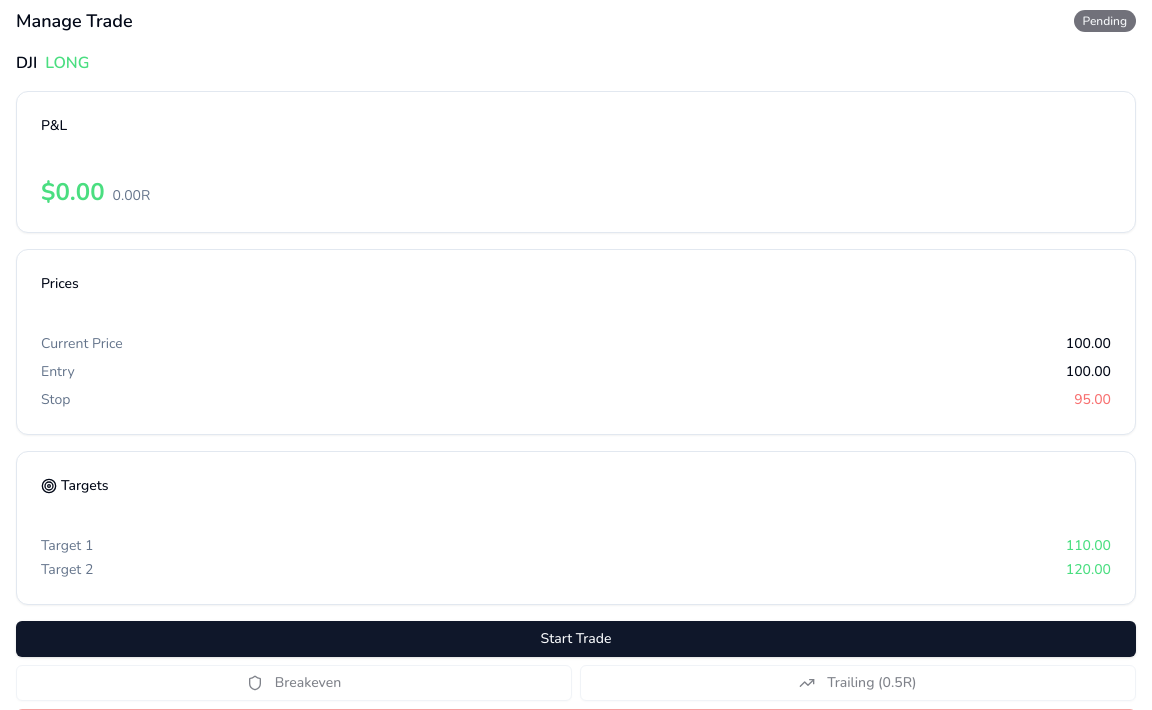
ManagePanel › trade log › should show exit log after closing
Click the button "Start Trade": [576, 639] box [16,621,1136,657]
(page scrolled)
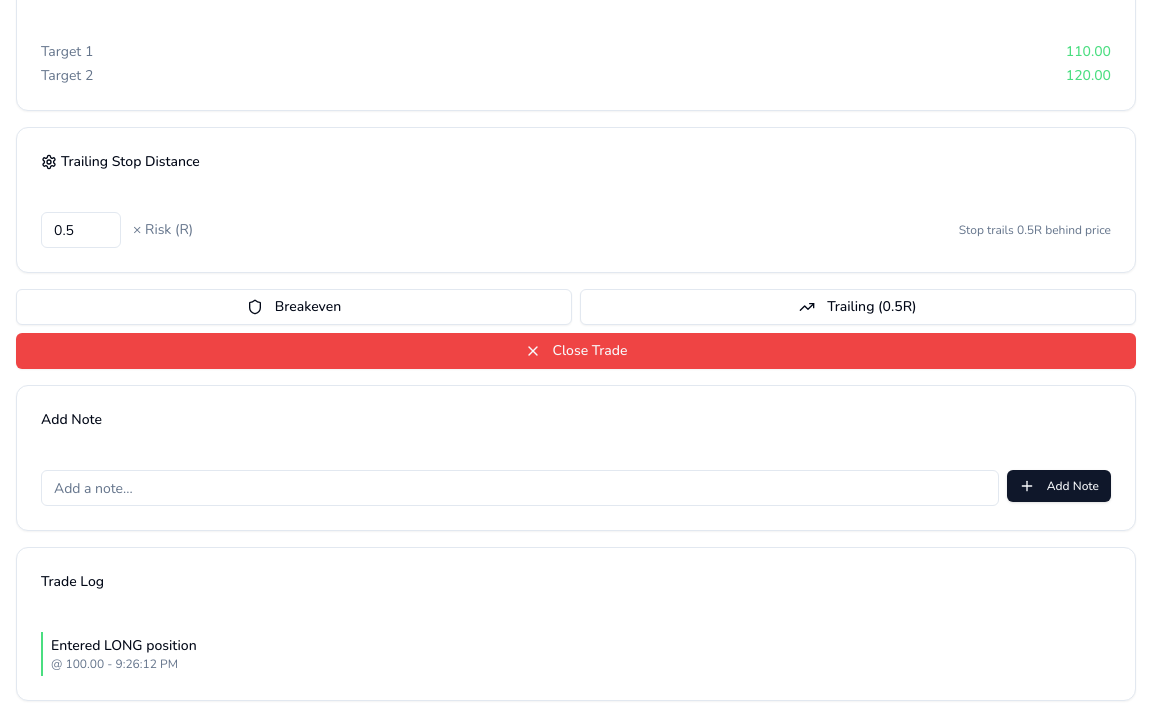
Click the button "Close Trade": [576, 351] box [16,333,1136,369]
(page scrolled)
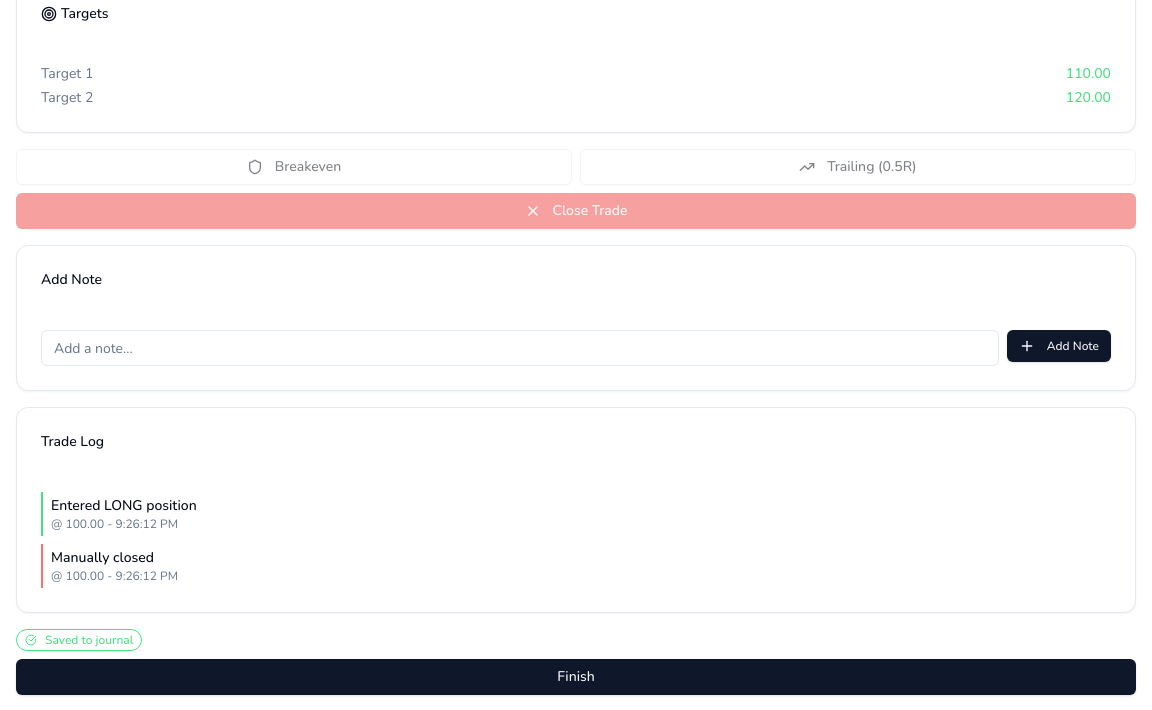
Expected: the text "Manually closed" is shown, [51,548,154,567]
